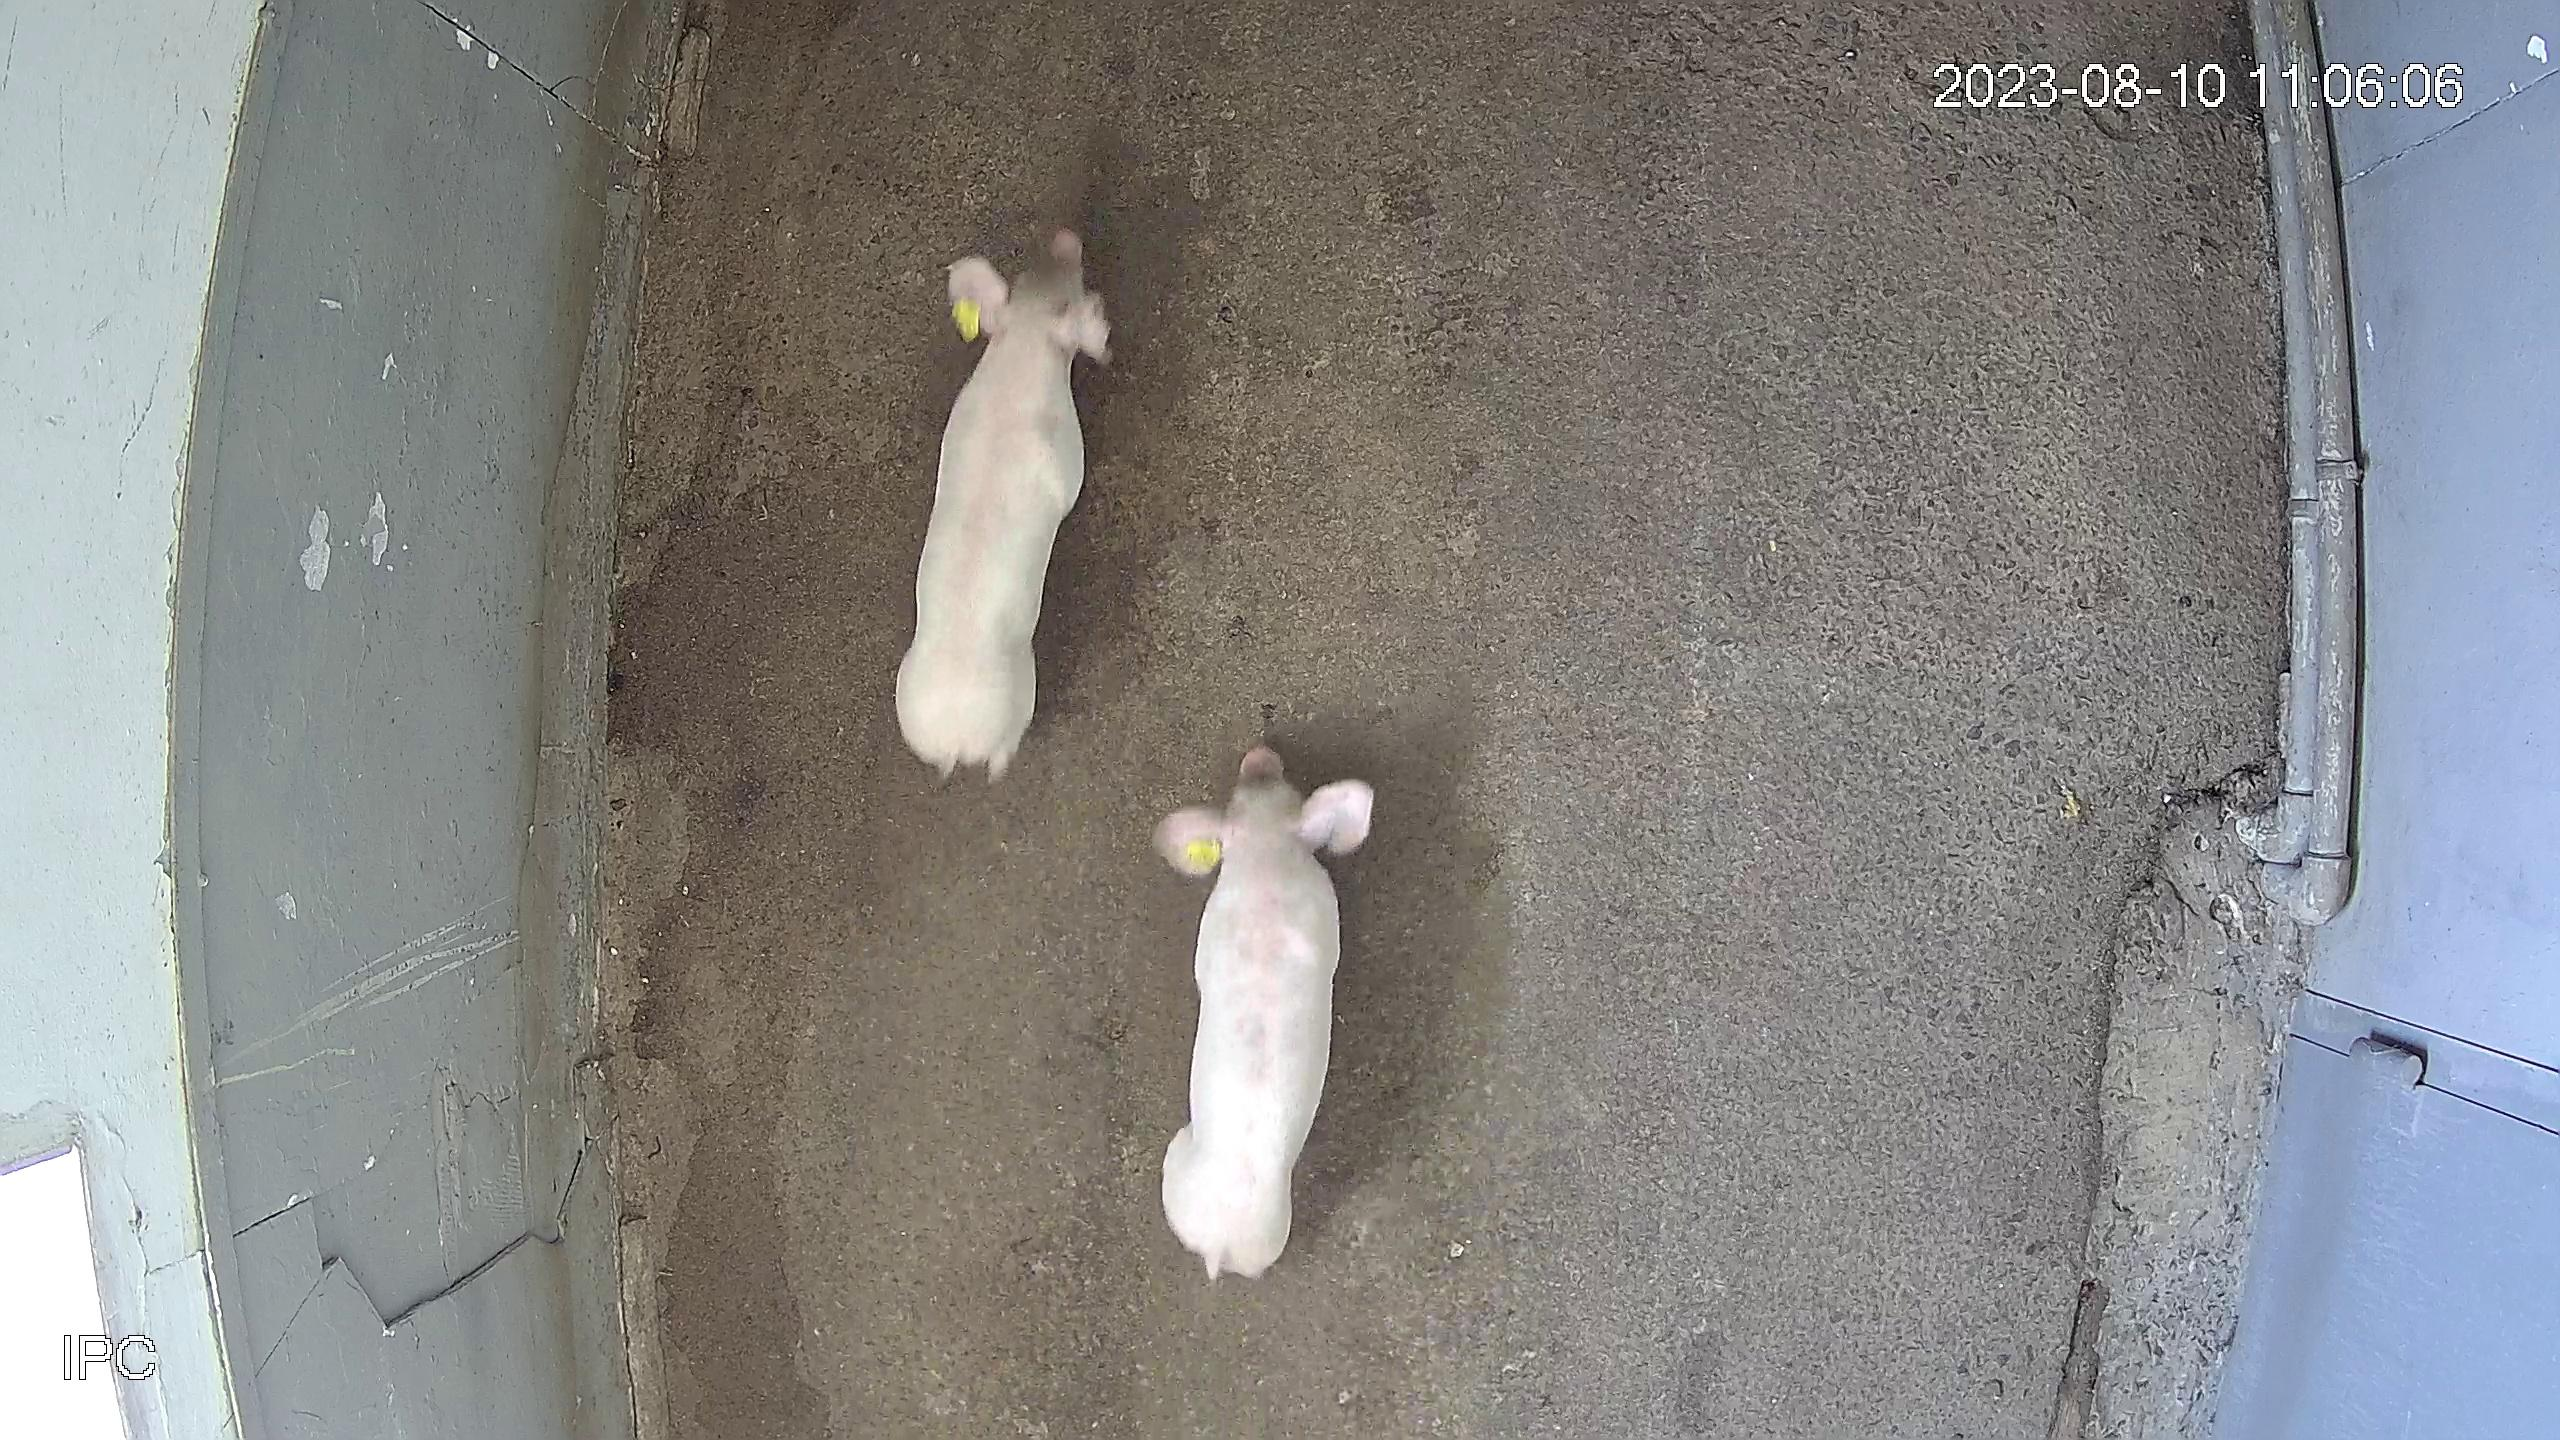Pig: (1153, 744, 1375, 1280), (897, 227, 1109, 777)
